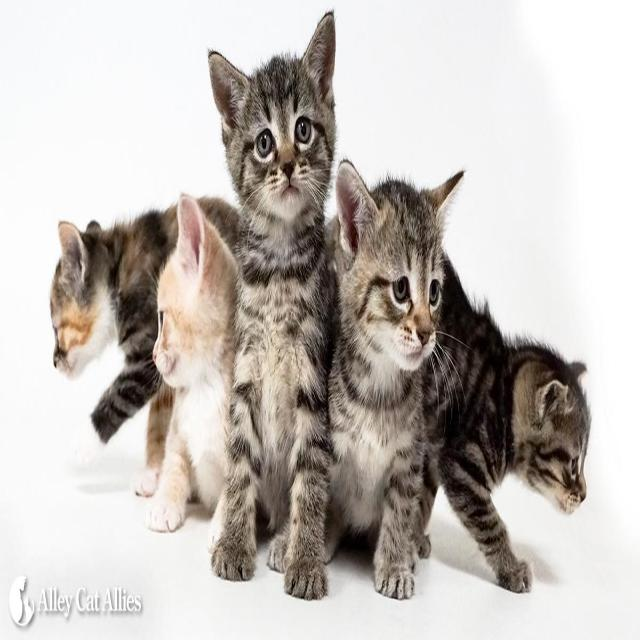Cat: (330, 162, 466, 372), (203, 9, 337, 220), (512, 327, 597, 526), (151, 193, 223, 395), (47, 207, 111, 387)
